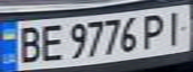6: (118, 14, 145, 53)
7: (84, 18, 106, 57), (103, 16, 124, 56)
9: (63, 20, 87, 61)
B: (12, 24, 45, 64)
E: (36, 21, 66, 63)
I: (160, 7, 193, 46)
P: (139, 11, 172, 50)
